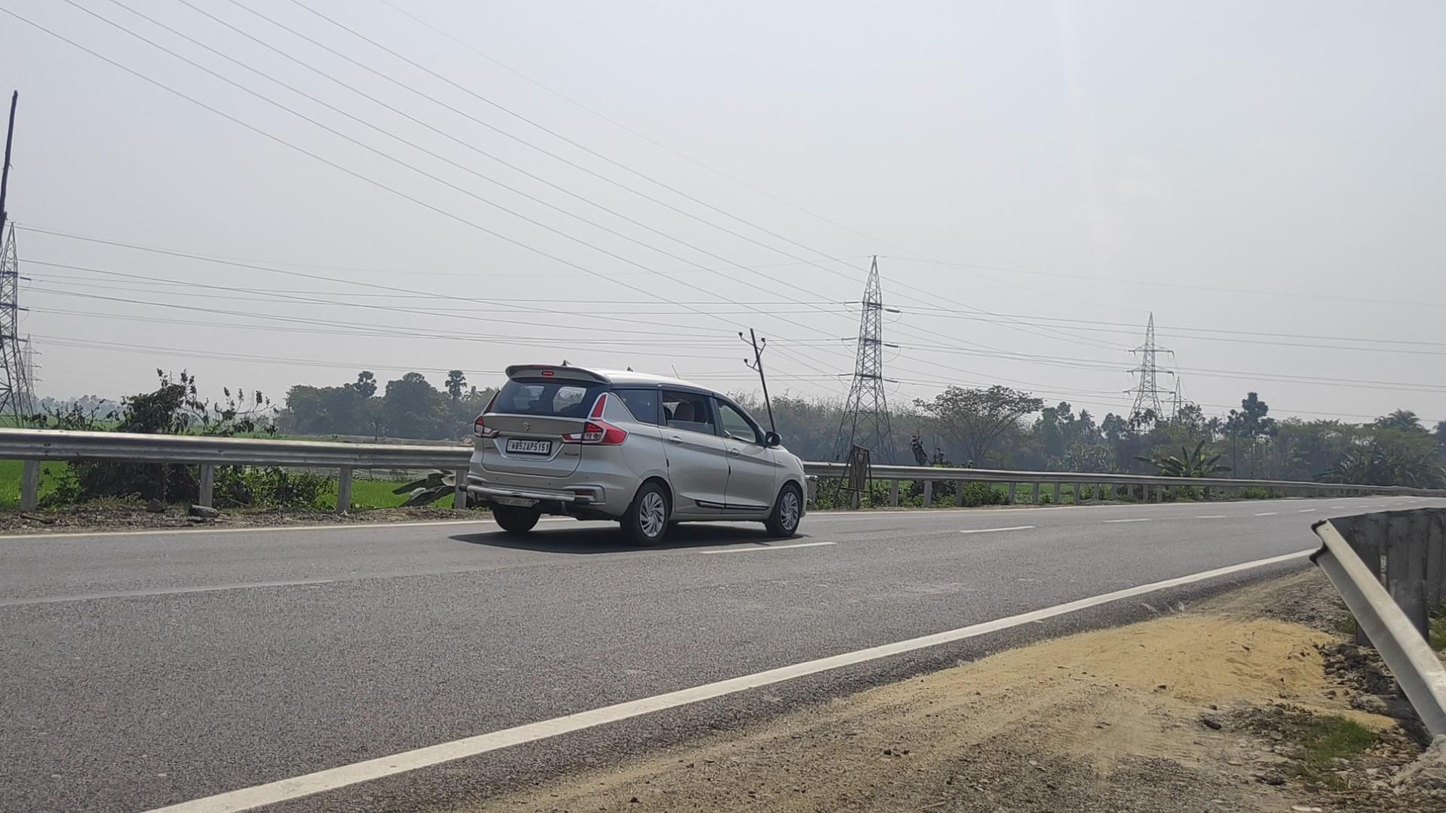car: (459, 361, 819, 547)
